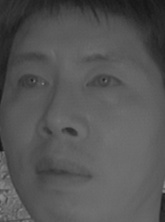eye: (84, 71, 124, 95), (15, 71, 50, 94)
mouth: (30, 153, 96, 196)
